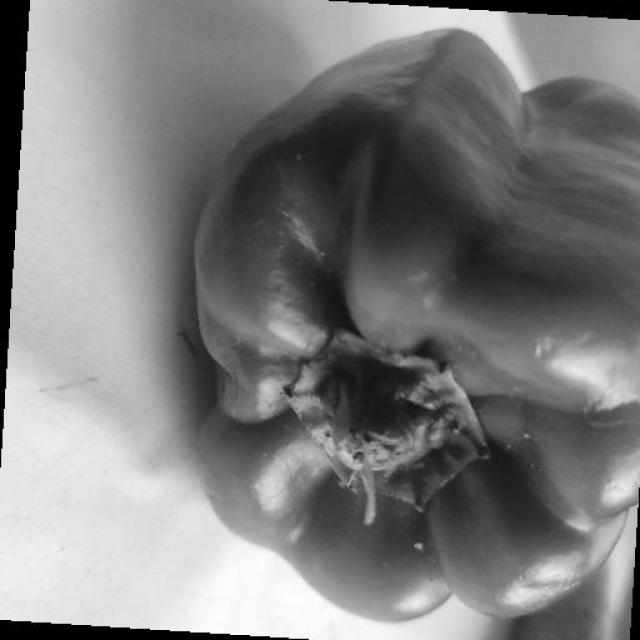Fresh_Capsicum: (209, 46, 640, 640)
